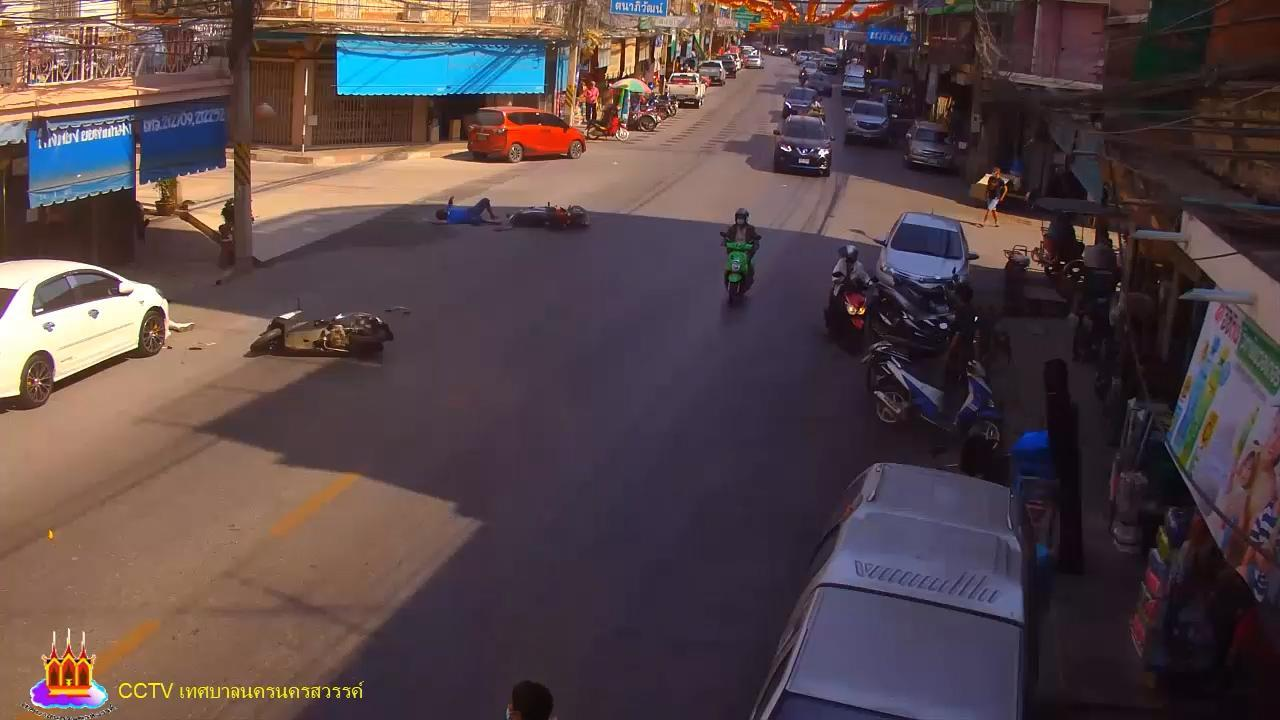accident: (433, 196, 500, 229)
